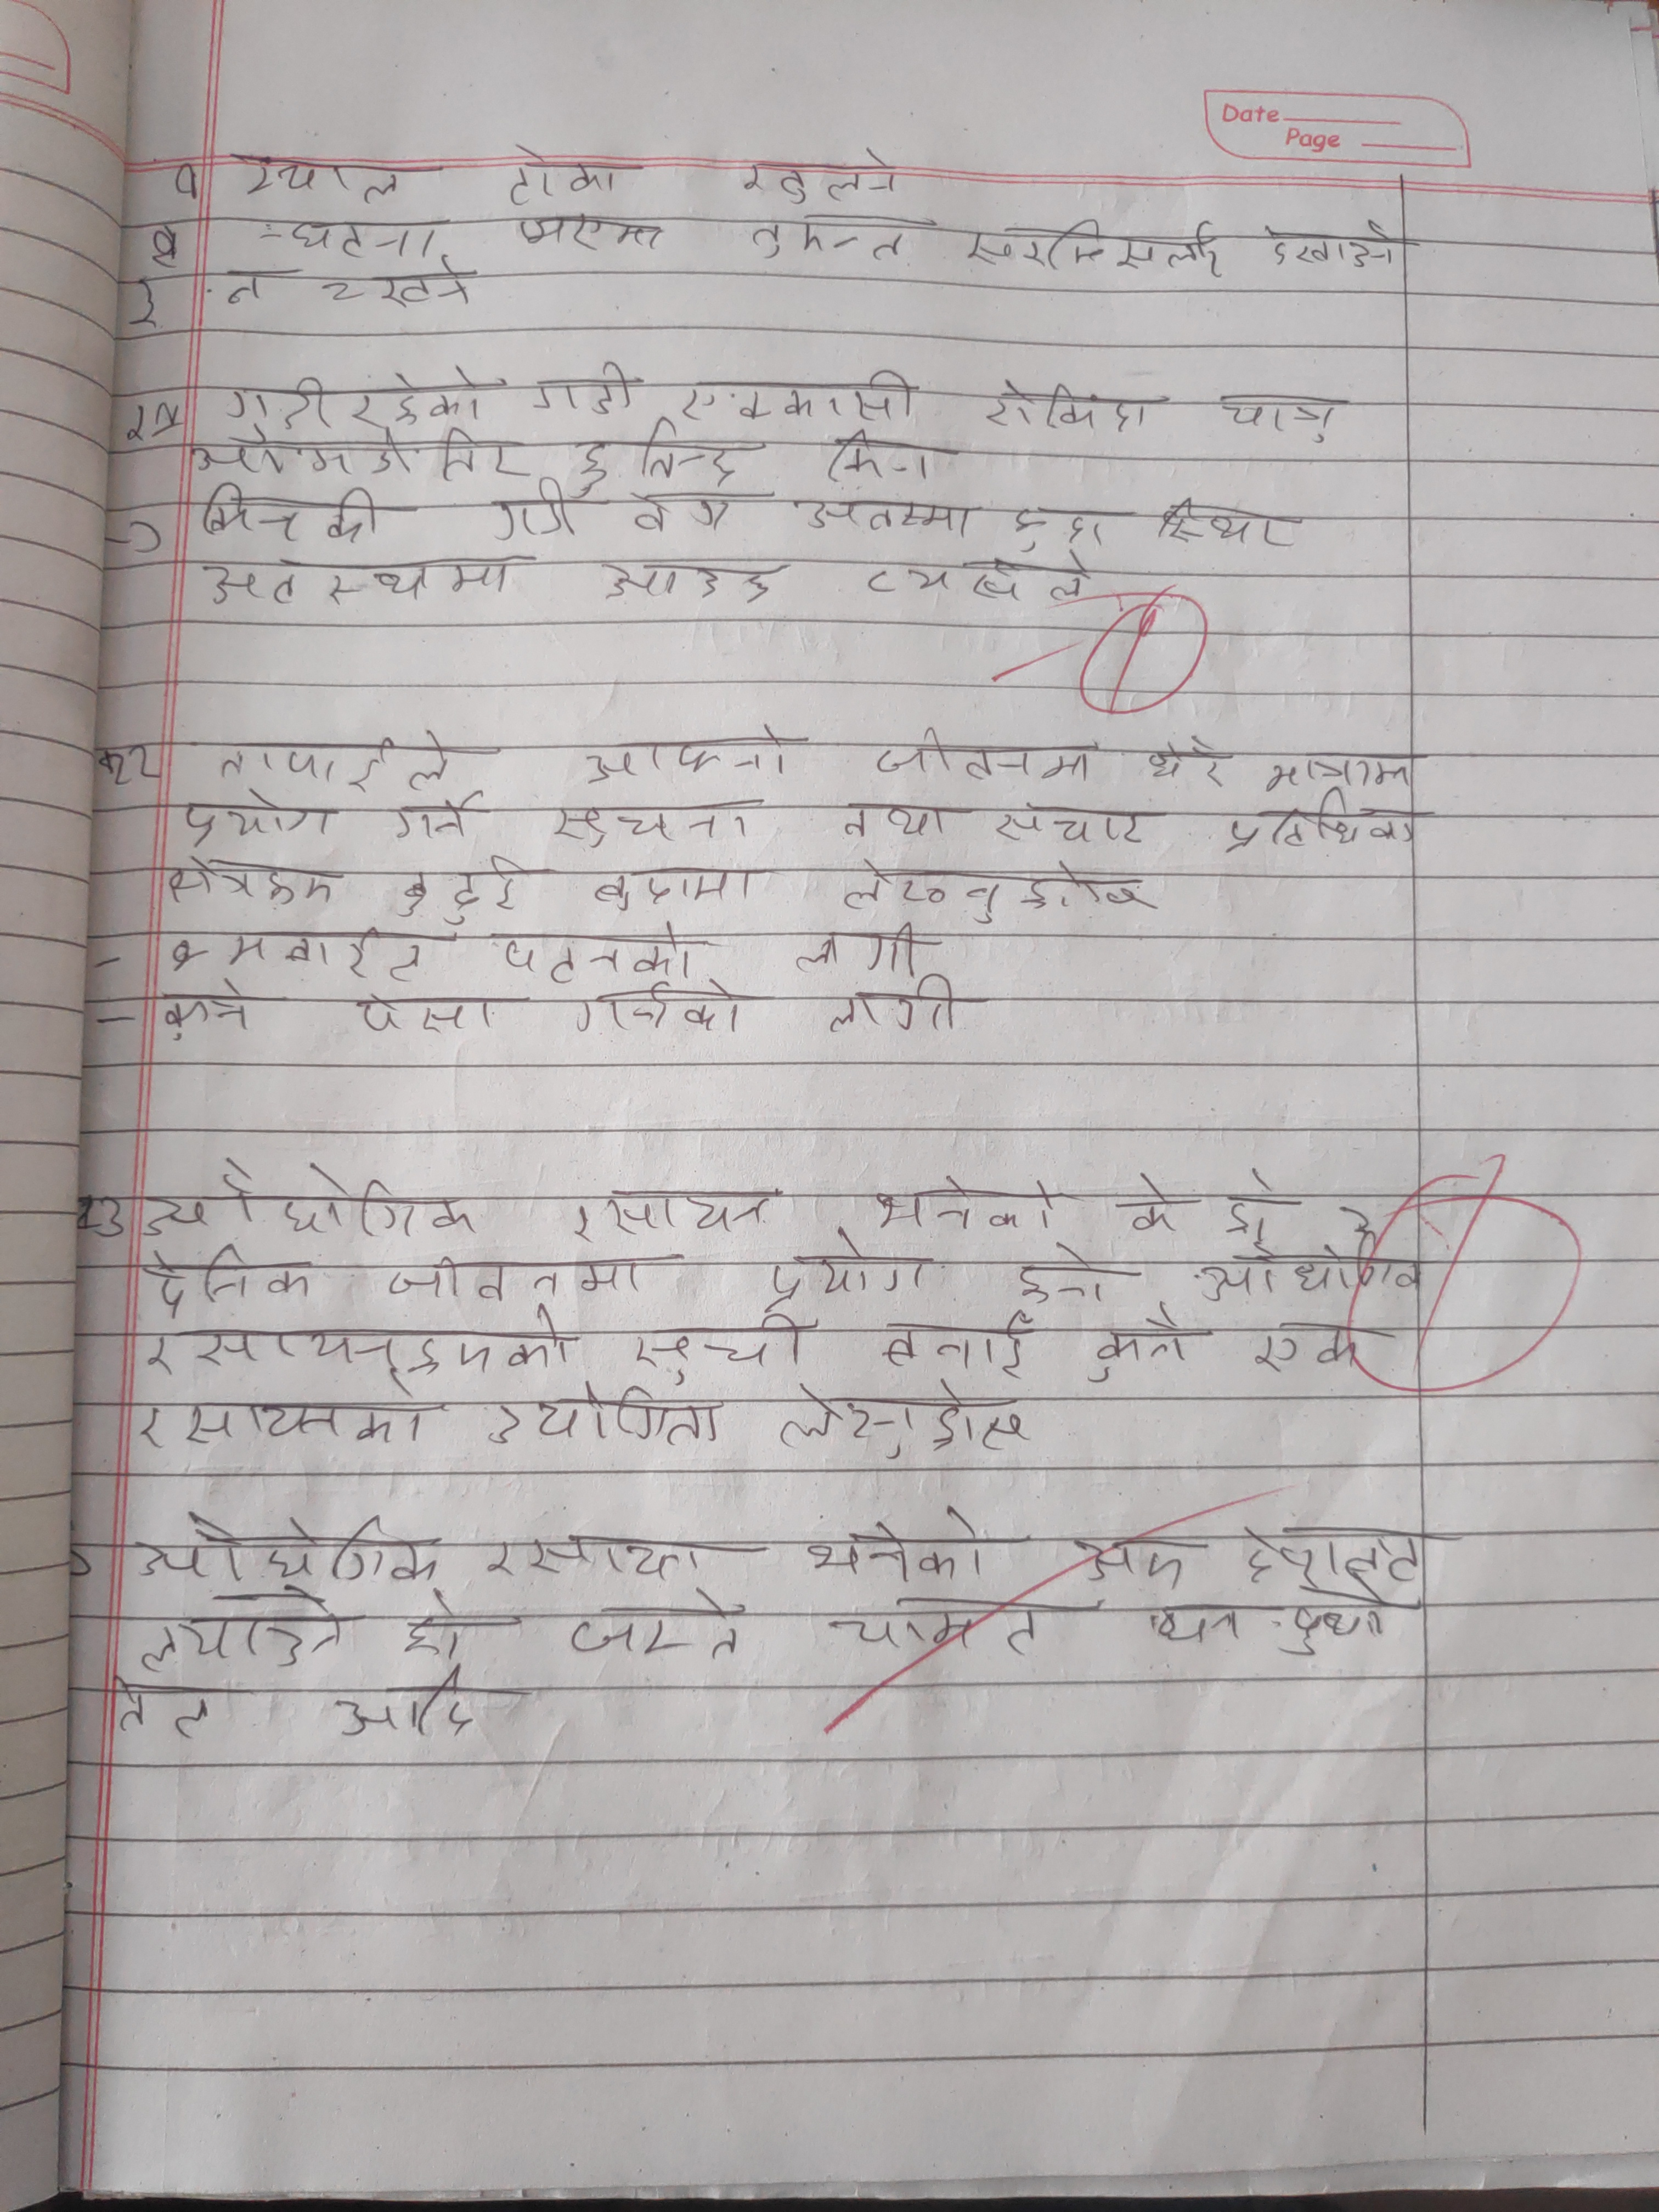text: (148, 1310, 575, 1383), (132, 1510, 444, 1588), (141, 1385, 451, 1458), (186, 423, 528, 488), (197, 549, 526, 611), (765, 1383, 1039, 1456), (962, 207, 1225, 282), (131, 1588, 354, 1676), (213, 723, 467, 792), (162, 918, 436, 982), (676, 357, 922, 427), (823, 1592, 1056, 1665), (382, 1249, 687, 1305), (270, 1160, 481, 1240), (847, 542, 1094, 610), (584, 716, 793, 794), (868, 719, 1105, 787), (221, 369, 498, 427), (864, 1165, 1061, 1245), (561, 1581, 751, 1663), (800, 1510, 1000, 1585), (1187, 1244, 1429, 1305), (622, 1308, 805, 1388), (490, 1390, 725, 1449), (132, 1240, 322, 1312), (563, 1183, 784, 1244), (1220, 794, 1420, 860), (192, 479, 390, 545), (498, 916, 697, 982), (481, 1527, 723, 1581), (762, 1230, 934, 1305), (978, 371, 1162, 441), (1239, 1524, 1432, 1590), (328, 1665, 486, 1743), (545, 792, 756, 848), (254, 202, 451, 261), (586, 554, 788, 611), (568, 979, 760, 1038), (134, 1153, 267, 1237), (228, 150, 413, 207), (791, 488, 978, 543), (737, 148, 906, 207), (179, 792, 345, 852), (1274, 1581, 1396, 1662), (347, 982, 514, 1040), (1073, 1306, 1199, 1383), (819, 979, 965, 1043), (882, 1318, 1040, 1378), (793, 911, 927, 981), (1263, 744, 1431, 799), (744, 212, 918, 265), (1211, 383, 1356, 446), (1253, 216, 1405, 275), (988, 796, 1154, 848), (321, 265, 474, 319), (1253, 1305, 1373, 1372), (528, 354, 645, 423), (1065, 1531, 1197, 1592), (498, 145, 629, 204), (1148, 493, 1297, 545), (615, 484, 748, 542), (819, 430, 955, 484), (518, 209, 660, 260), (153, 982, 261, 1042), (1011, 1249, 1115, 1310), (1000, 505, 1126, 556), (1105, 1170, 1190, 1244), (392, 1602, 483, 1669), (840, 796, 958, 846), (638, 428, 742, 484), (112, 1686, 218, 1740), (1150, 1594, 1246, 1651), (497, 481, 586, 542), (1147, 730, 1230, 794), (1218, 1163, 1286, 1238), (392, 792, 476, 852), (1323, 1177, 1382, 1245), (573, 430, 622, 500), (221, 263, 277, 312)
